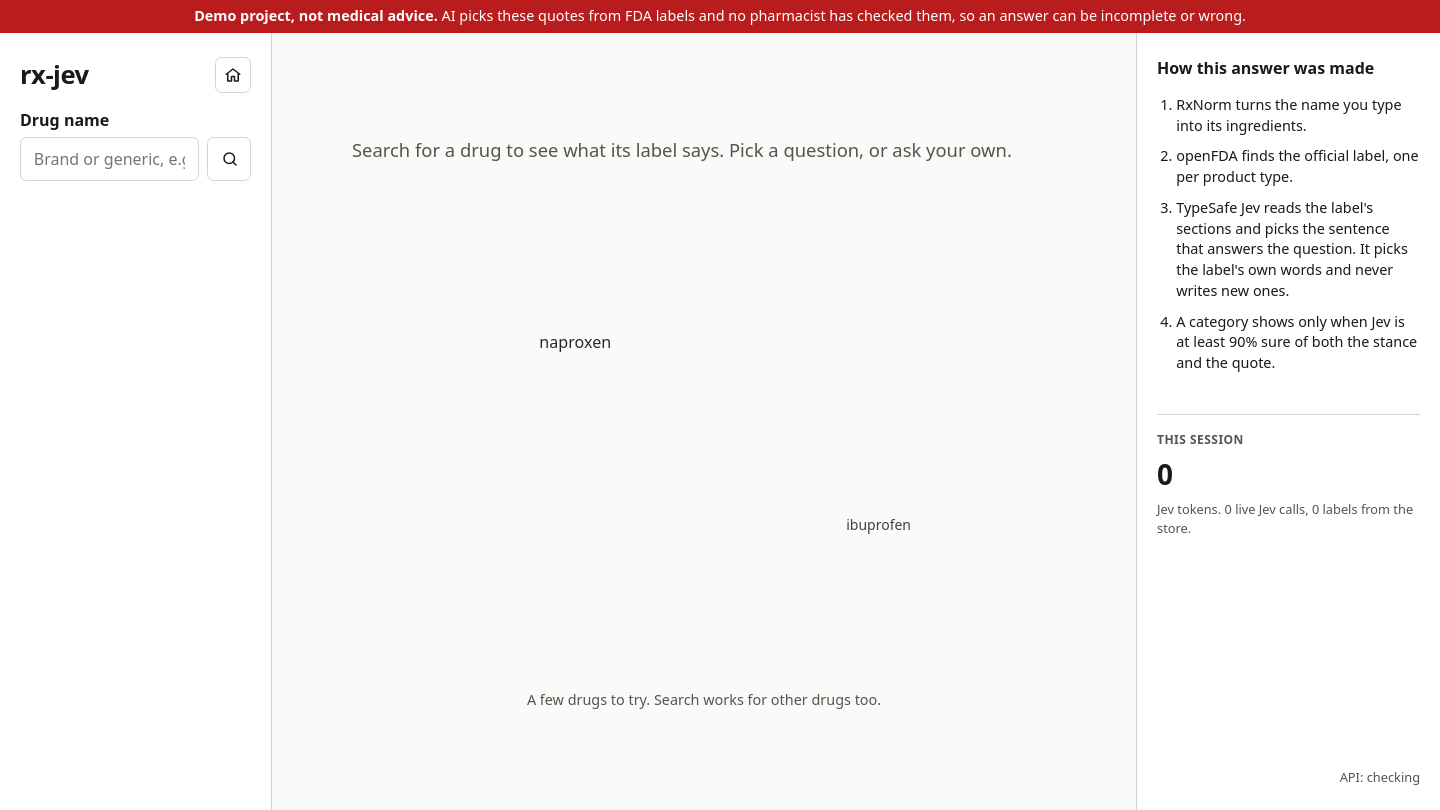
Test: App › looks up a drug picked from the home page
Click the button "ibuprofen": point(879, 525) [841,513,916,537]
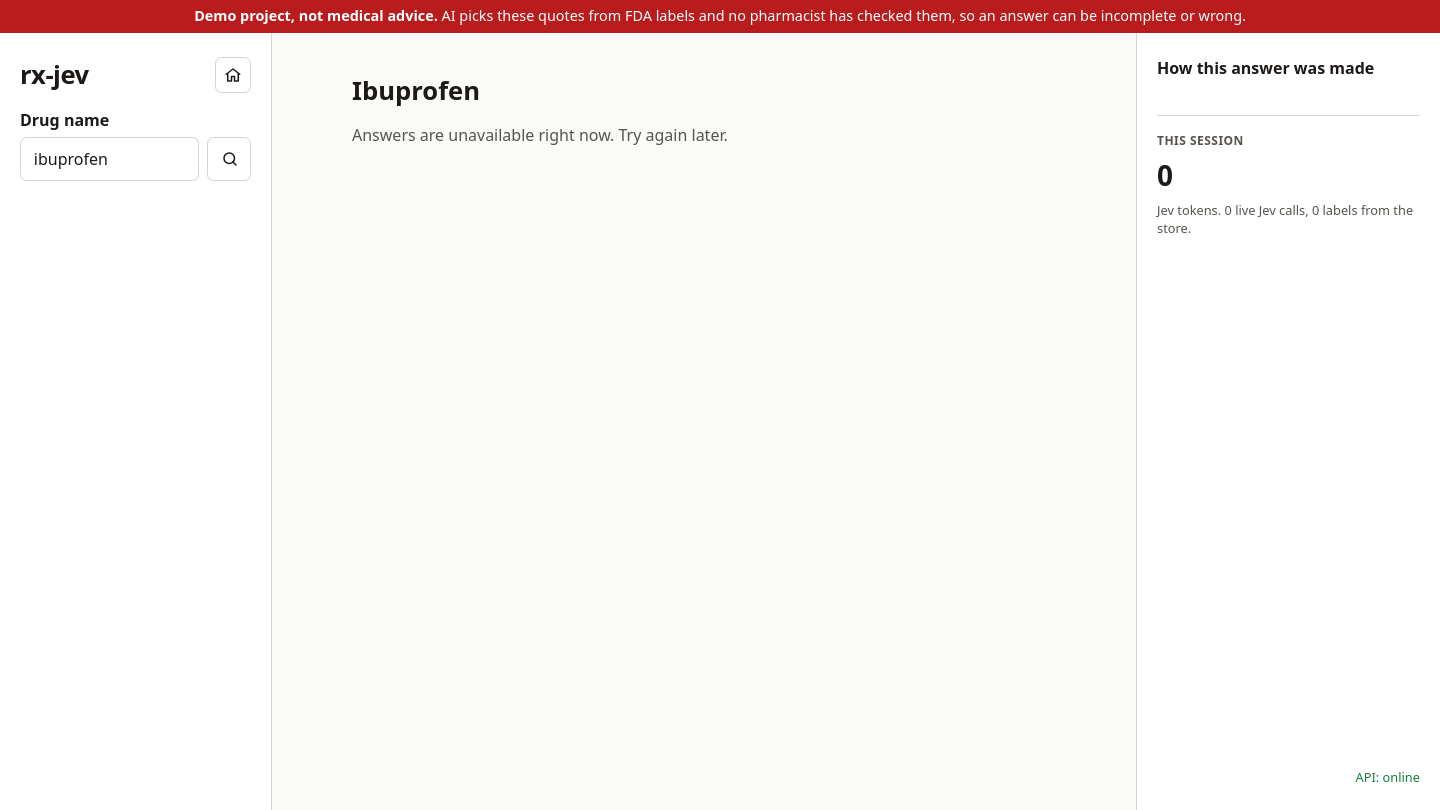
Expected: the heading "ibuprofen" is shown, [352,73,480,108]
Now the dropdown labelled "Drug name" holds "ibuprofen", box [20,137,199,180]
Now the text "drugs to try" is gone
